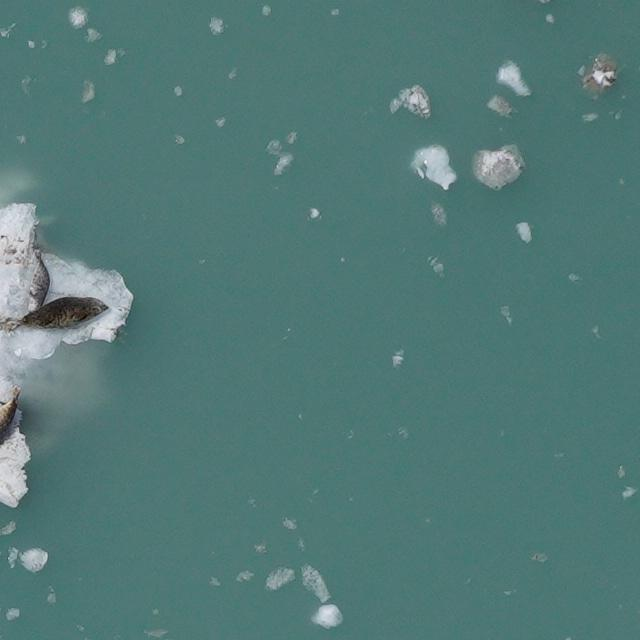seal: (3, 288, 113, 338), (25, 248, 55, 315), (0, 381, 23, 442)
